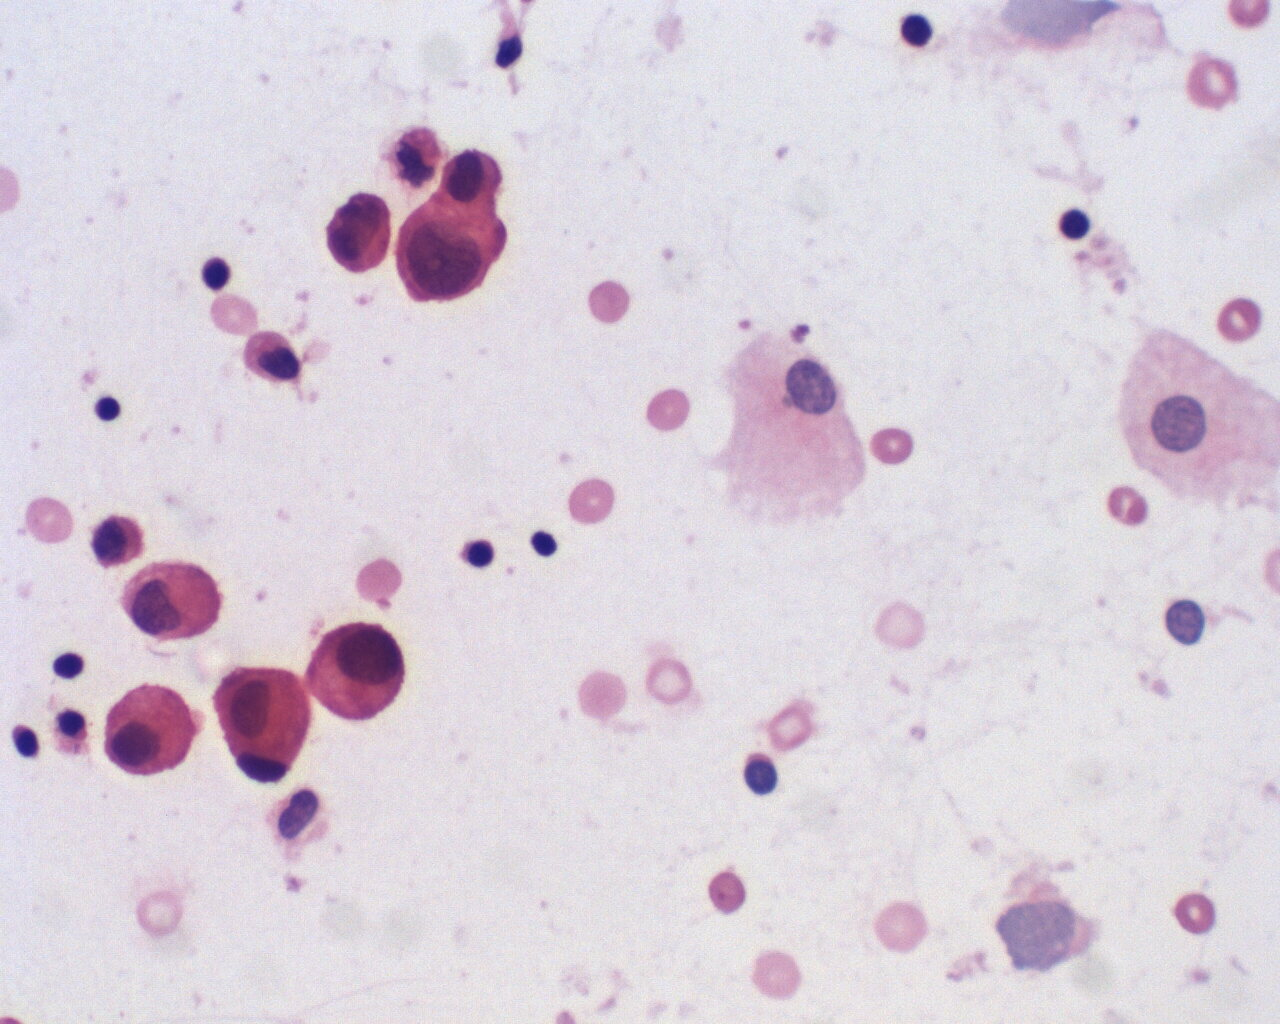ab: (392, 204, 520, 311), (321, 192, 395, 281), (436, 141, 515, 209)
lymph: (196, 251, 241, 299), (895, 11, 942, 56), (1054, 205, 1100, 248), (458, 531, 501, 576), (89, 389, 125, 425), (527, 526, 562, 561)
meso: (309, 621, 409, 727), (104, 680, 199, 782)
